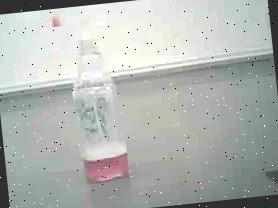hazard: (47, 8, 134, 190)
